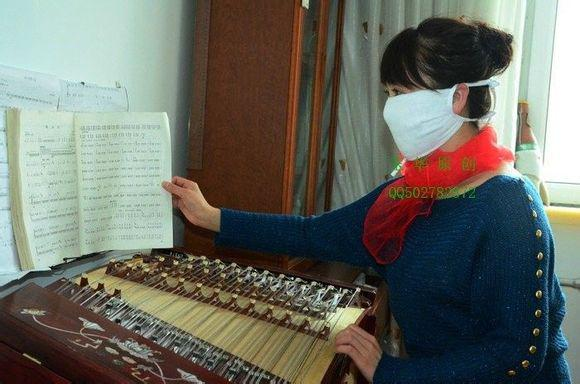OK: (383, 81, 465, 163)
